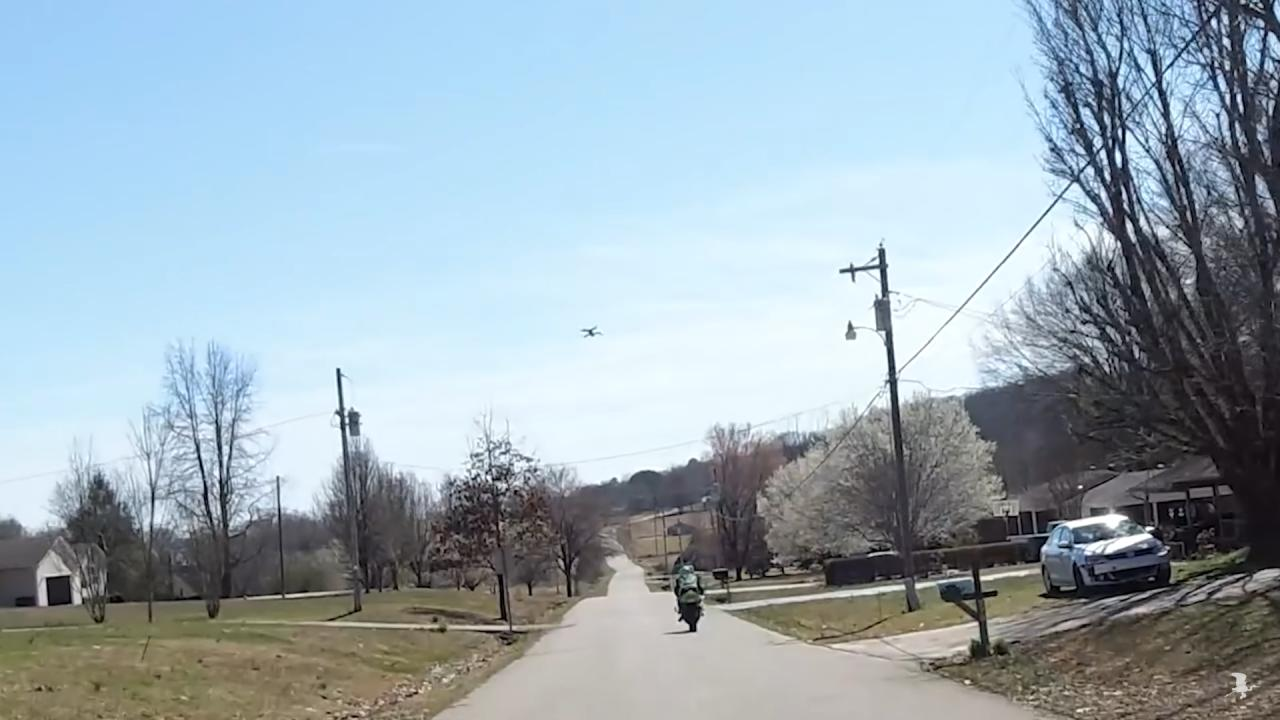Drone: (572, 318, 608, 345)
